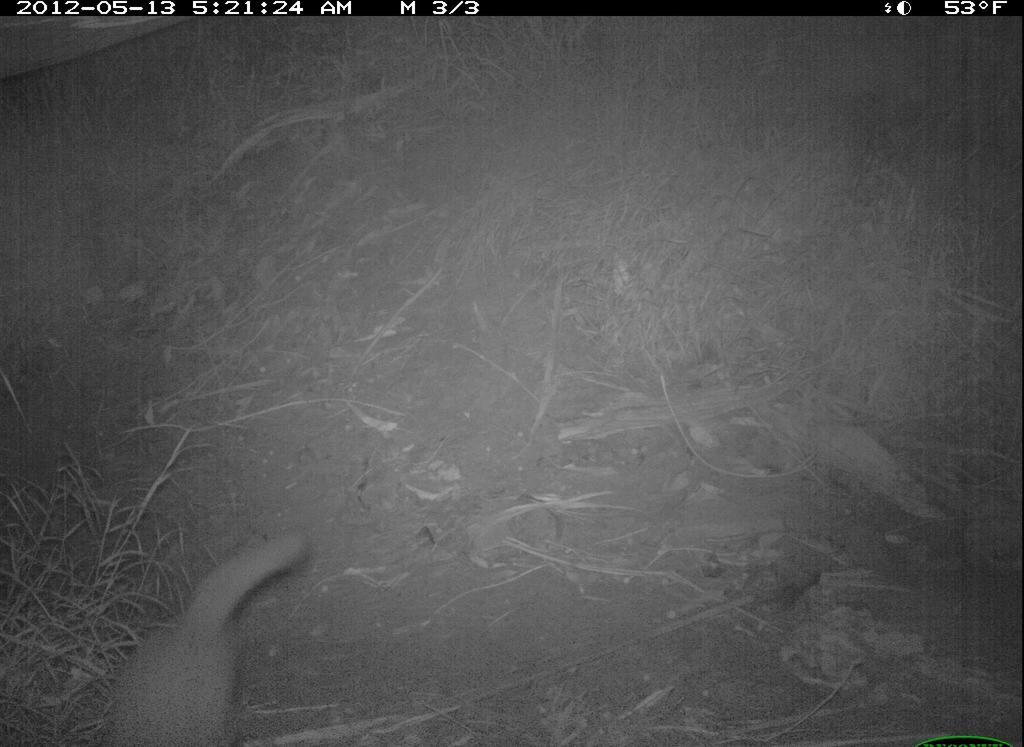cat: (91, 529, 331, 744)
